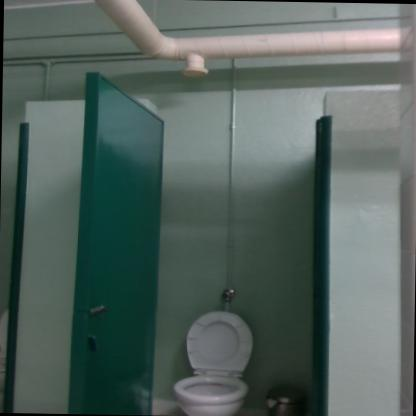open: (42, 37, 374, 415)
